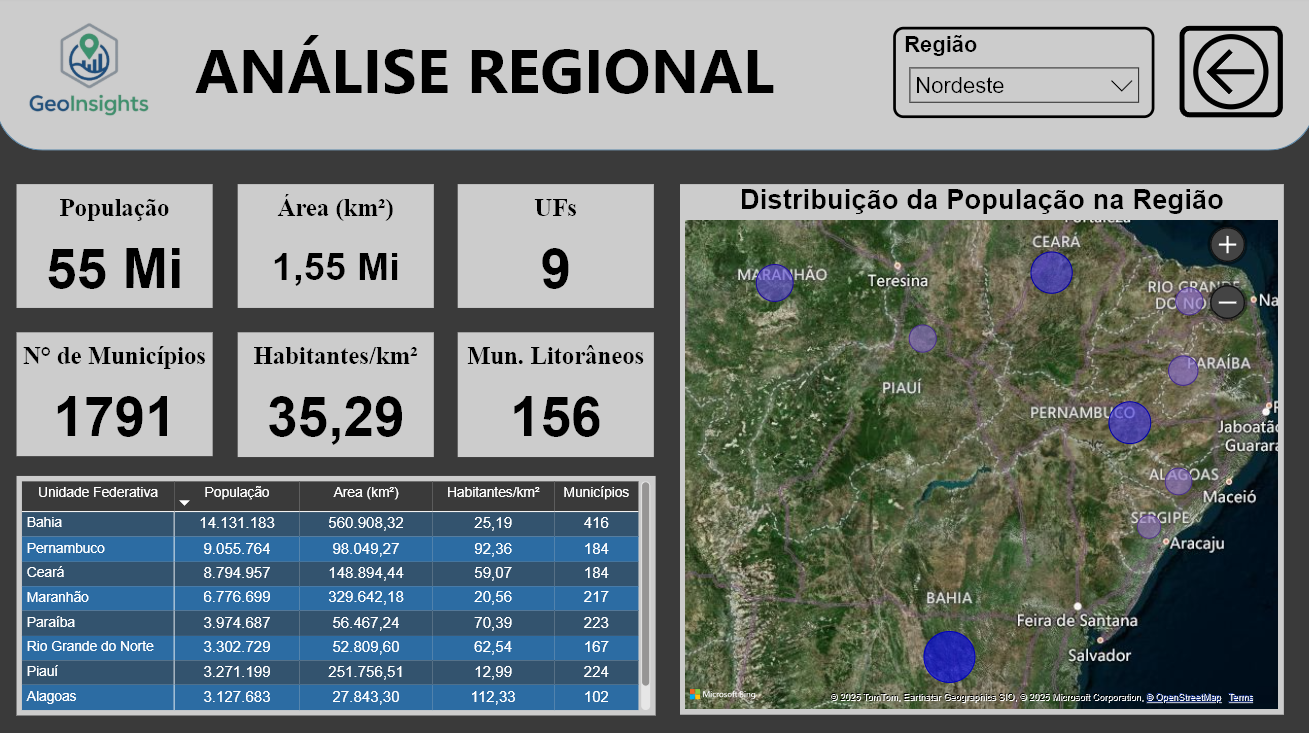

What the dashboard file says about the page in this screenshot:
{"tool":"powerbi","page":{"name":"Regional","canvas":[1280,720],"ordinal":1},"visuals":[{"type":"shape","box":[0,0,1280,150.4],"z":0},{"type":"image","box":[0,0,179.9,148.9],"z":1000},{"type":"card","title":"N° de Municípios","fields":{"Values":["CountNonNull(Dados_Municipios.Município)"]},"box":[20,326,190,120],"z":2000},{"type":"card","title":"População","fields":{"Values":["Sum(Dados_Municipios.População)"]},"box":[20,183,190,120],"z":3000},{"type":"card","title":"UFs","fields":{"Values":["Count(Dados_Municipios.Unidade federativa)"]},"box":[448,183,190,120],"z":4000},{"type":"card","title":"Área (km²)","fields":{"Values":["Dados_Municipios.Area total"]},"box":[234,183,190,120],"z":5000},{"type":"card","title":"Habitantes/km²","fields":{"Values":["Dados_Municipios.Densidade Demográfica"]},"box":[235,326,190,120.8],"z":6000},{"type":"card","title":"Mun. Litorâneos","fields":{"Values":["Estados_Litoral.Mun Litoraneos"]},"box":[448,326,190,120.8],"z":7000},{"type":"map","title":"Mapa da Região","fields":{"Y":["Avg(Coordenadas_Estados.Latitude)"],"X":["Avg(Coordenadas_Estados.Longitude)"],"Category":["Coordenadas_Estados.Estado"],"Size":["Sum(Dados_Municipios.População)"]},"box":[663.8,183,586.2,514.9],"z":8000},{"type":"pivotTable","fields":{"Values":["Sum(Dados_Municipios.População)","Dados_Municipios.Area total","Dados_Municipios.Densidade Demográfica","CountNonNull(Dados_Municipios.Município)"],"Rows":["Dados_Municipios.Unidade federativa"]},"box":[20.2,465.3,620.3,232.6],"z":9000},{"type":"slicer","title":"Região","fields":{"Values":["Coordenadas_Estados.Região"]},"box":[870.5,29.7,253.9,89],"z":10000},{"type":"actionButton","box":[1148.7,29.3,100.5,89],"z":11000}]}

Visuals, with their boxes in screenshot pixels (x1, y1, x2, y2), scaled from the page's 1280x720 canvas onto the 1309x733 screenshot:
shape: bbox=(0, 0, 1308, 153)
image: bbox=(0, 0, 184, 152)
"N° de Municípios" card: bbox=(20, 332, 215, 454)
"População" card: bbox=(20, 186, 215, 308)
"UFs" card: bbox=(458, 186, 652, 308)
"Área (km²)" card: bbox=(239, 186, 434, 308)
"Habitantes/km²" card: bbox=(240, 332, 435, 455)
"Mun. Litorâneos" card: bbox=(458, 332, 652, 455)
"Mapa da Região" map: bbox=(679, 186, 1278, 711)
pivotTable - Sum(Dados_Municipios.População) x Dados_Municipios.Area total: bbox=(21, 474, 655, 711)
"Região" slicer: bbox=(890, 30, 1150, 121)
actionButton: bbox=(1175, 30, 1278, 120)
